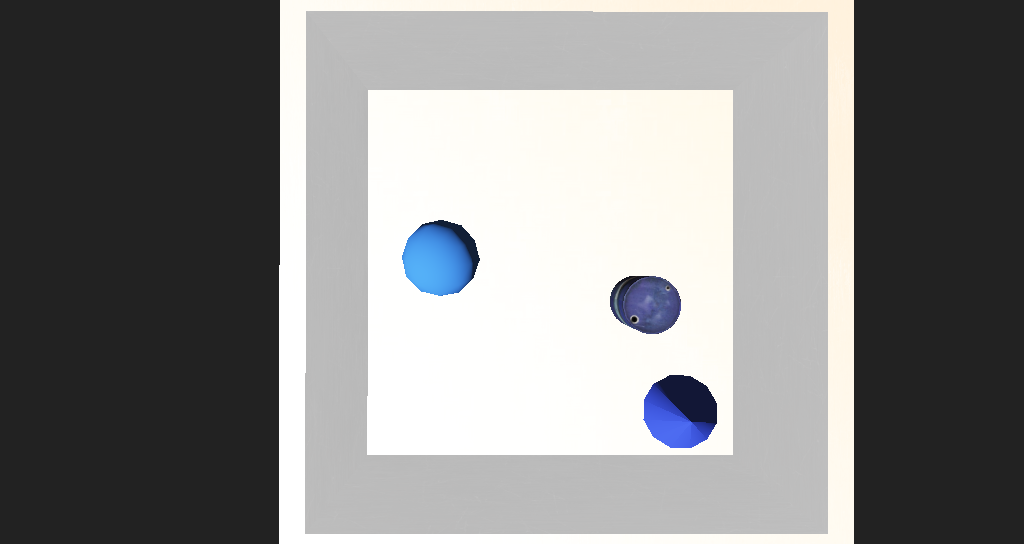cone: (552, 270, 606, 303)
cylinder: (576, 320, 664, 387)
sphere: (387, 241, 448, 284)
